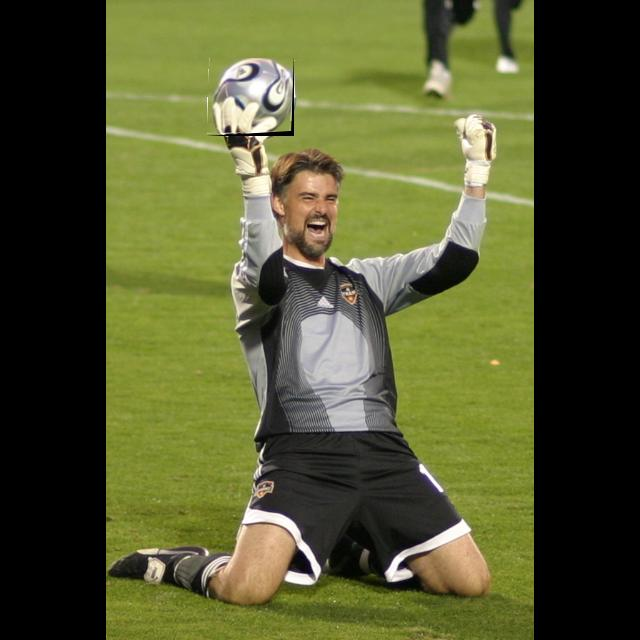Football: (208, 58, 294, 136)
